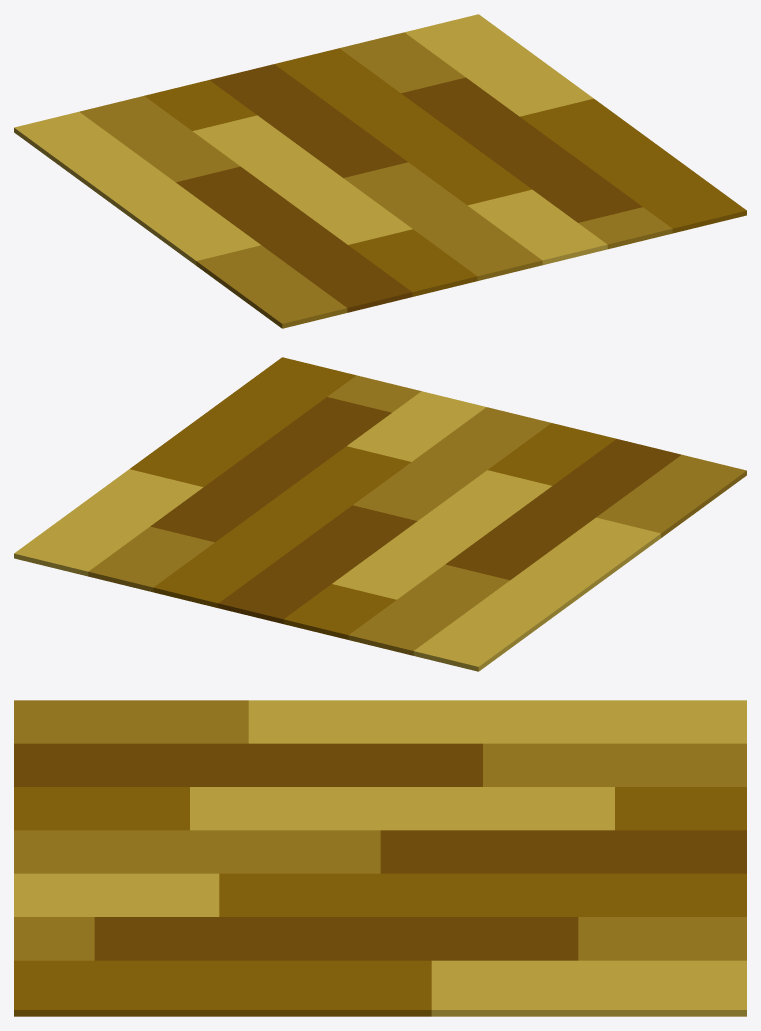
Rendered from plancher.obj.
3 views of the same model, one above another, from view 1: azimuth 30°, elevation 25°; view 2: azimuth 150°, elevation 25°; view 3: azimuth 270°, elevation 25° (orthographic). The views are drawn at different scales.
Size of the model in its own units: 100 by 1 by 100.
1 material, 1 textured.
